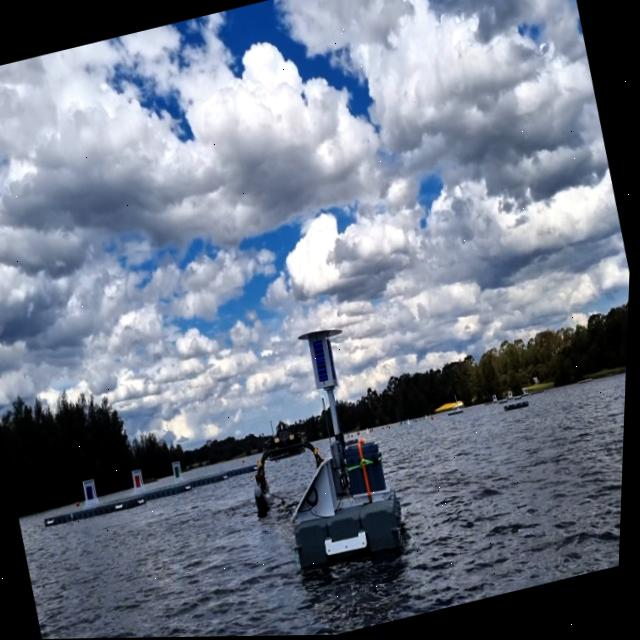led: (310, 337, 337, 387)
